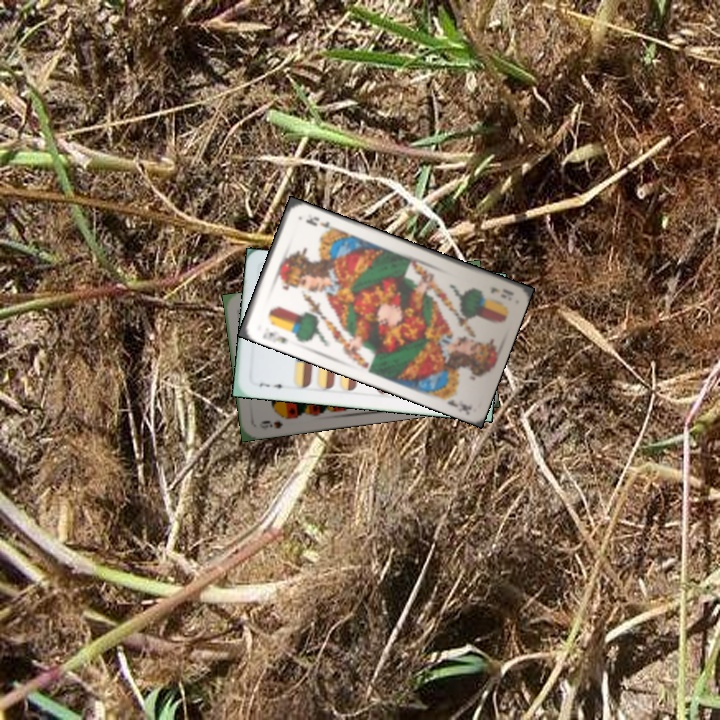E7: (255, 378, 289, 391)
EK: (258, 328, 291, 346), (486, 283, 515, 298)
S9: (255, 411, 294, 432)
